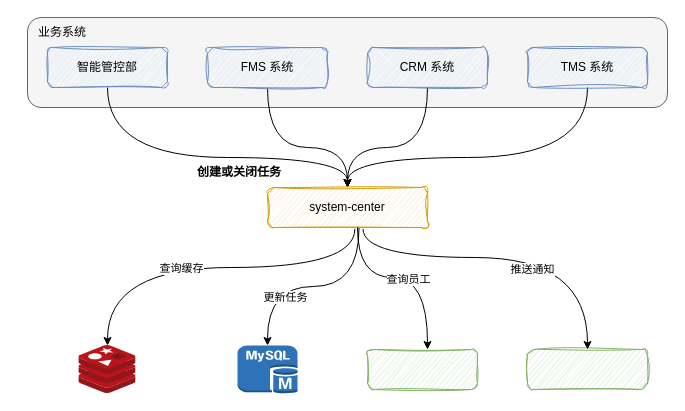
Image size: 685x411. Some labels were removed from this diagram. Here are the shapes that lost their labels. From the top down, the centre of each, then its label:
the point at 422,369: HR 系统
the point at 587,369: push-center 服务
